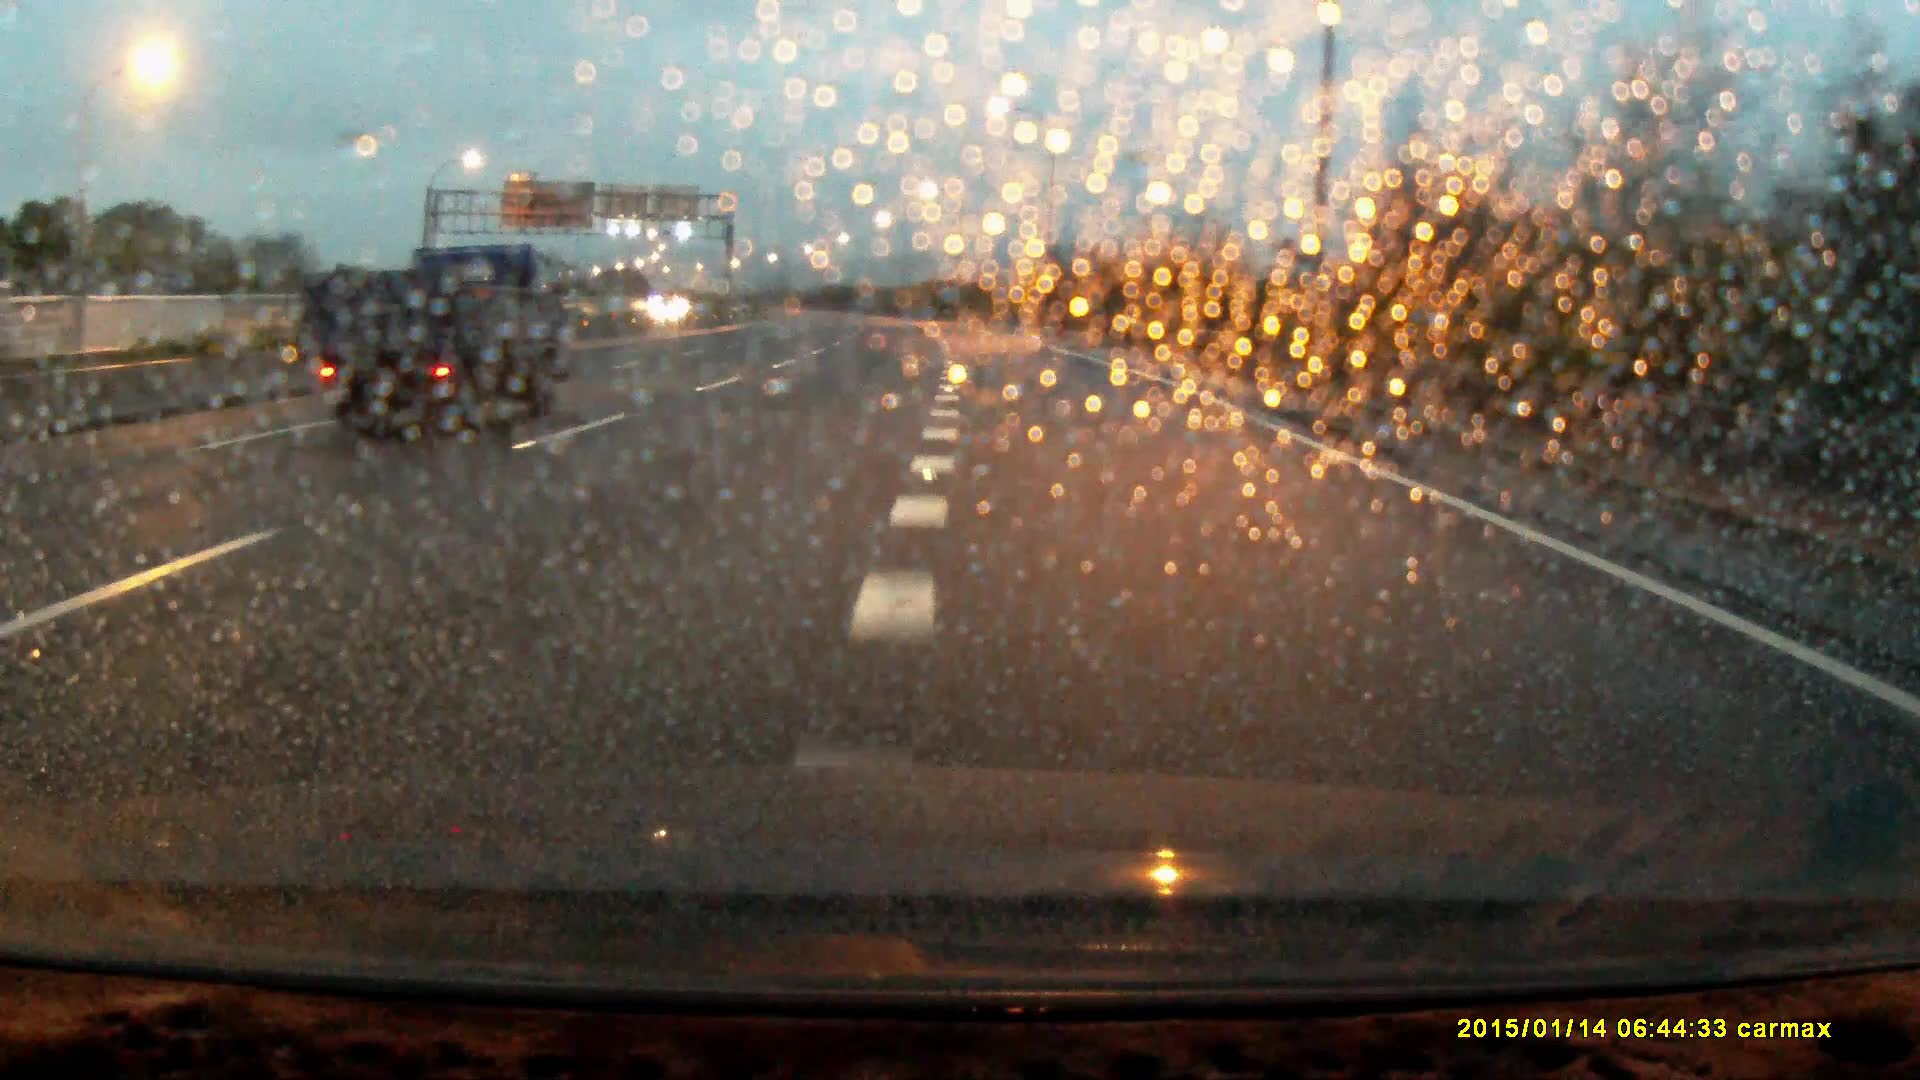vehicle: (301, 237, 553, 439)
